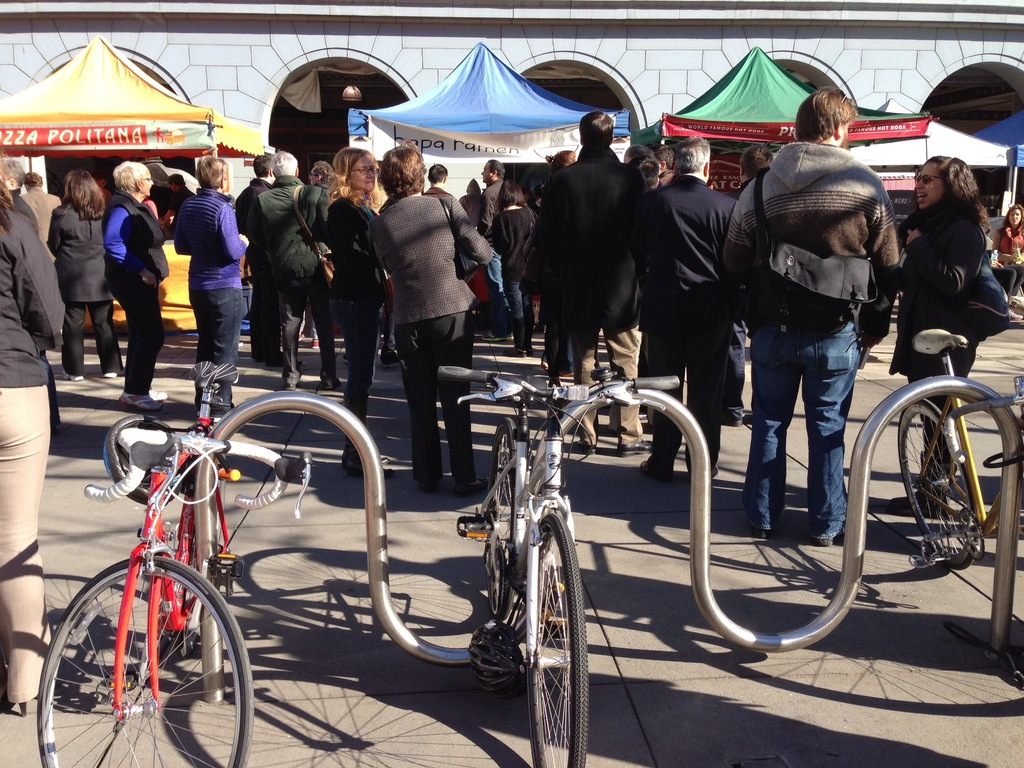Footwear: (886, 486, 948, 521), (340, 447, 390, 464), (344, 460, 388, 479), (453, 476, 488, 495), (618, 440, 652, 458), (640, 460, 665, 480), (120, 396, 159, 404), (147, 386, 166, 402), (748, 529, 773, 540), (380, 352, 397, 367), (419, 481, 437, 495), (575, 442, 593, 456), (723, 417, 742, 430), (504, 348, 527, 358), (104, 367, 124, 378), (814, 537, 833, 547), (65, 372, 86, 381), (310, 336, 320, 351), (341, 357, 350, 366)
